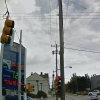Traffic light: (0, 15, 28, 52)
